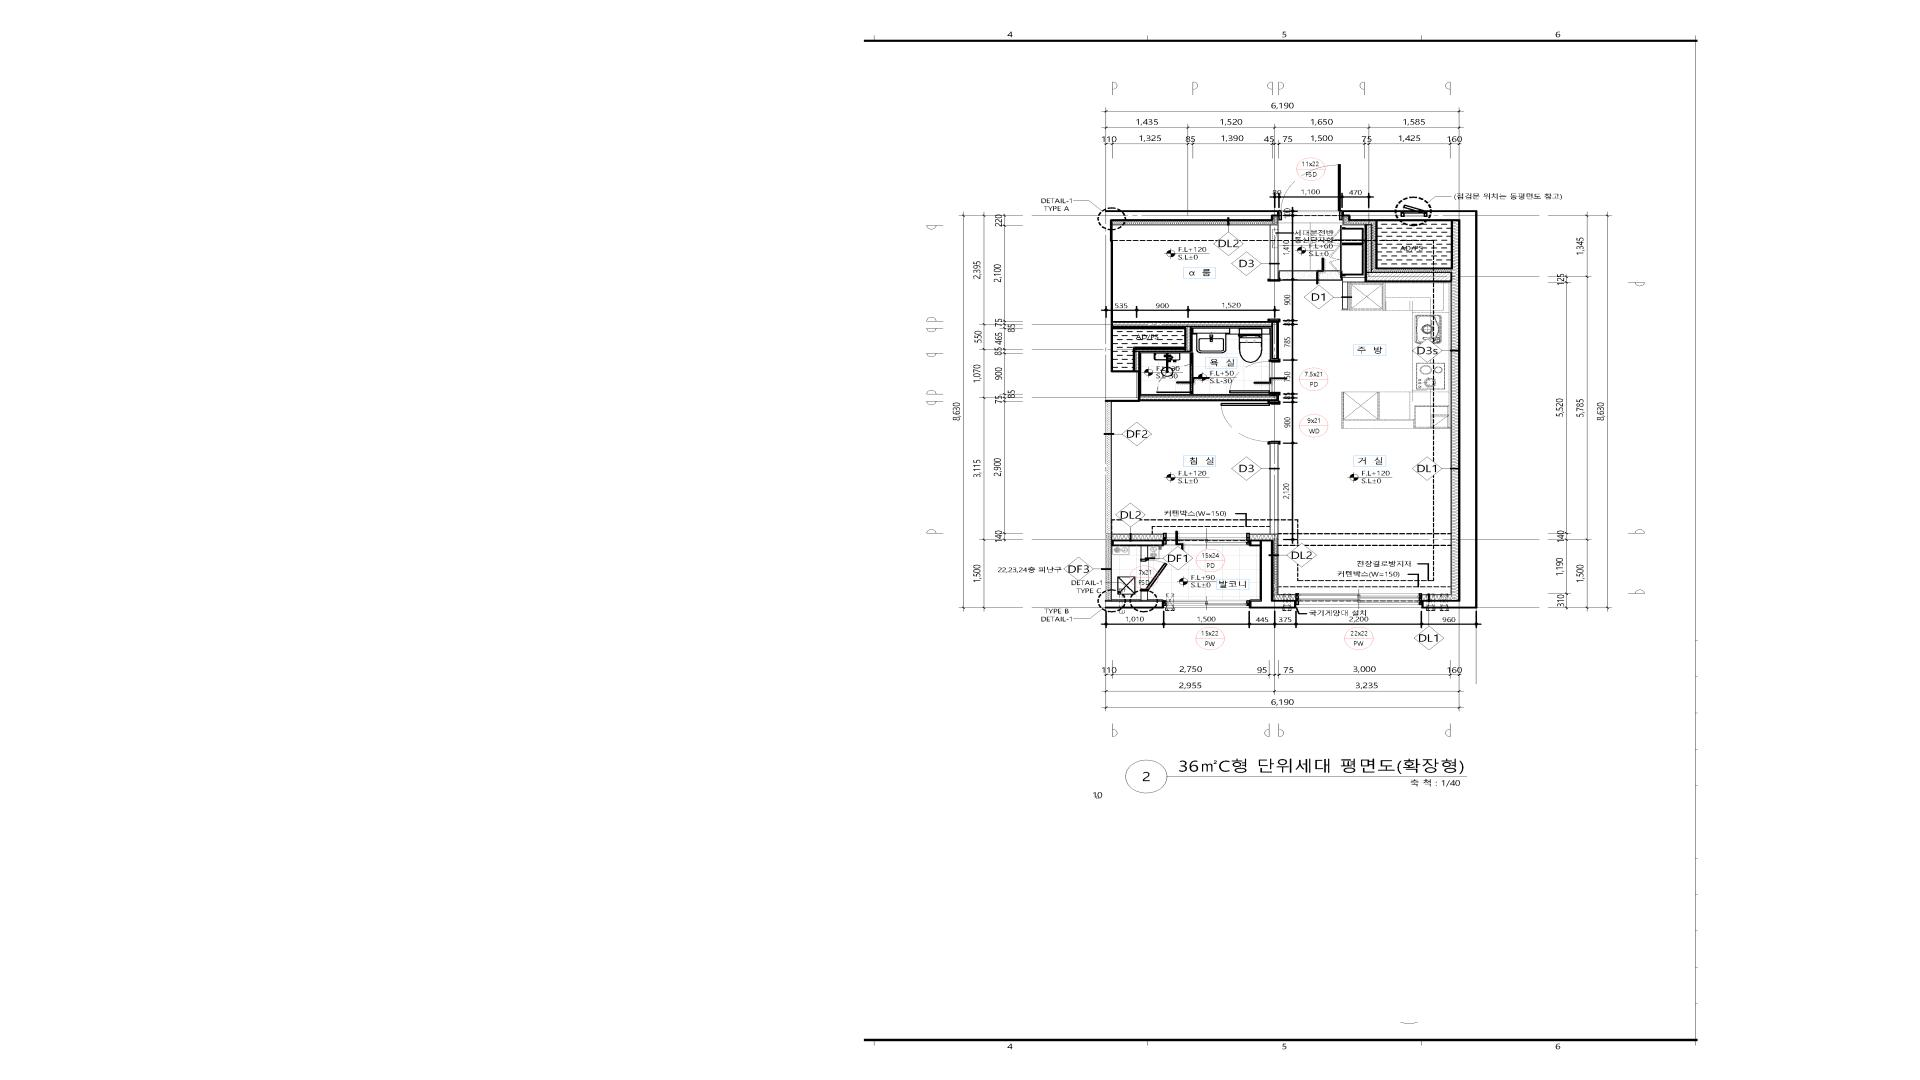door: (1280, 164, 1341, 220), (1220, 402, 1280, 442), (1229, 361, 1280, 393), (1156, 365, 1193, 393), (1139, 560, 1167, 591)
wall: (1342, 210, 1478, 608), (1113, 320, 1279, 372), (1365, 224, 1451, 282), (1249, 541, 1296, 608), (1110, 210, 1278, 222), (1112, 541, 1164, 559), (1270, 444, 1279, 534), (1141, 396, 1279, 401), (1106, 402, 1110, 533), (1270, 225, 1279, 280), (1105, 601, 1164, 609), (1106, 533, 1110, 600), (1342, 277, 1365, 282), (1249, 541, 1259, 546), (1141, 592, 1147, 600), (1189, 353, 1193, 364)
window: (1296, 593, 1422, 605), (1164, 533, 1249, 545), (1164, 600, 1249, 607)
